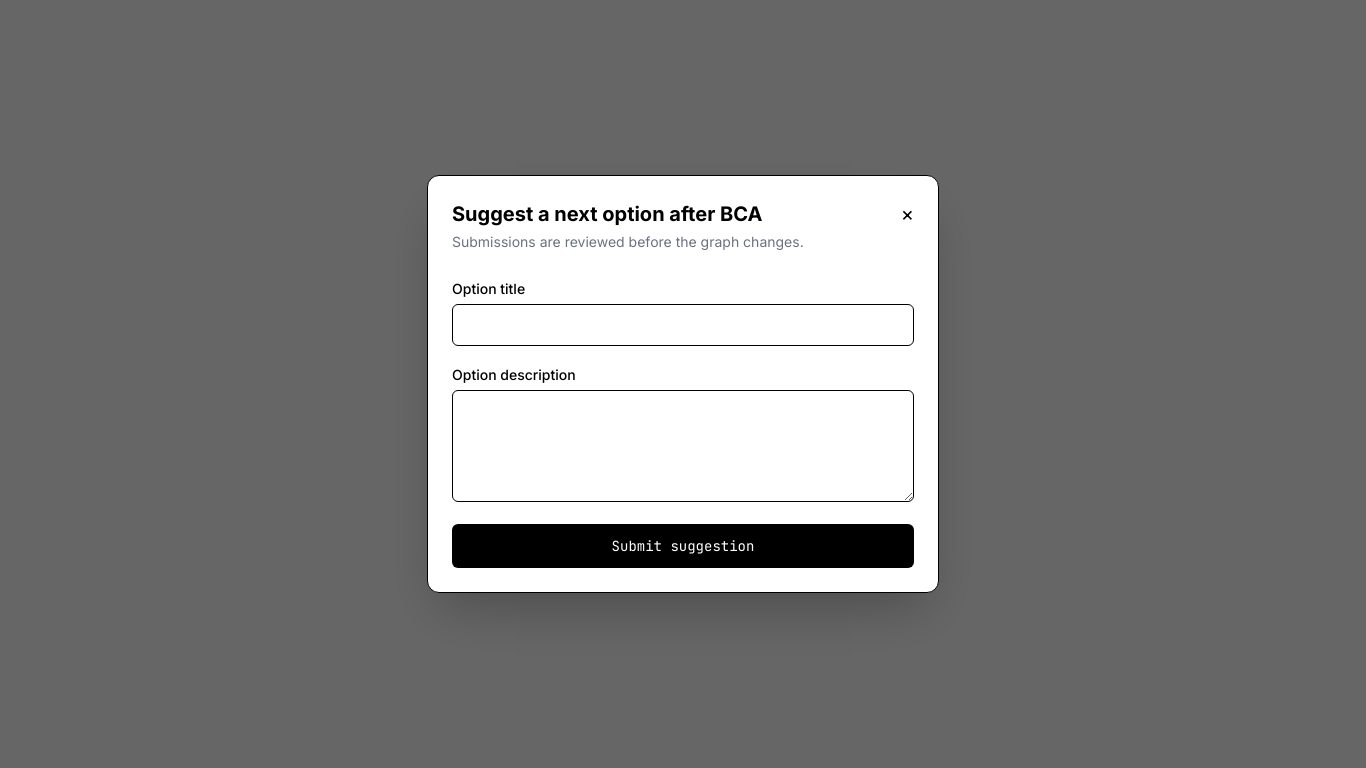
SuggestionDialog › submits the stable-ID suggestion payload and shows success
This screenshot has width=1366, height=768.
Type "Cloud Engineering Certification" into the field labelled "Option title".
click(683, 325); type("Cloud Engineering Certification")  # box [452,304,914,346]
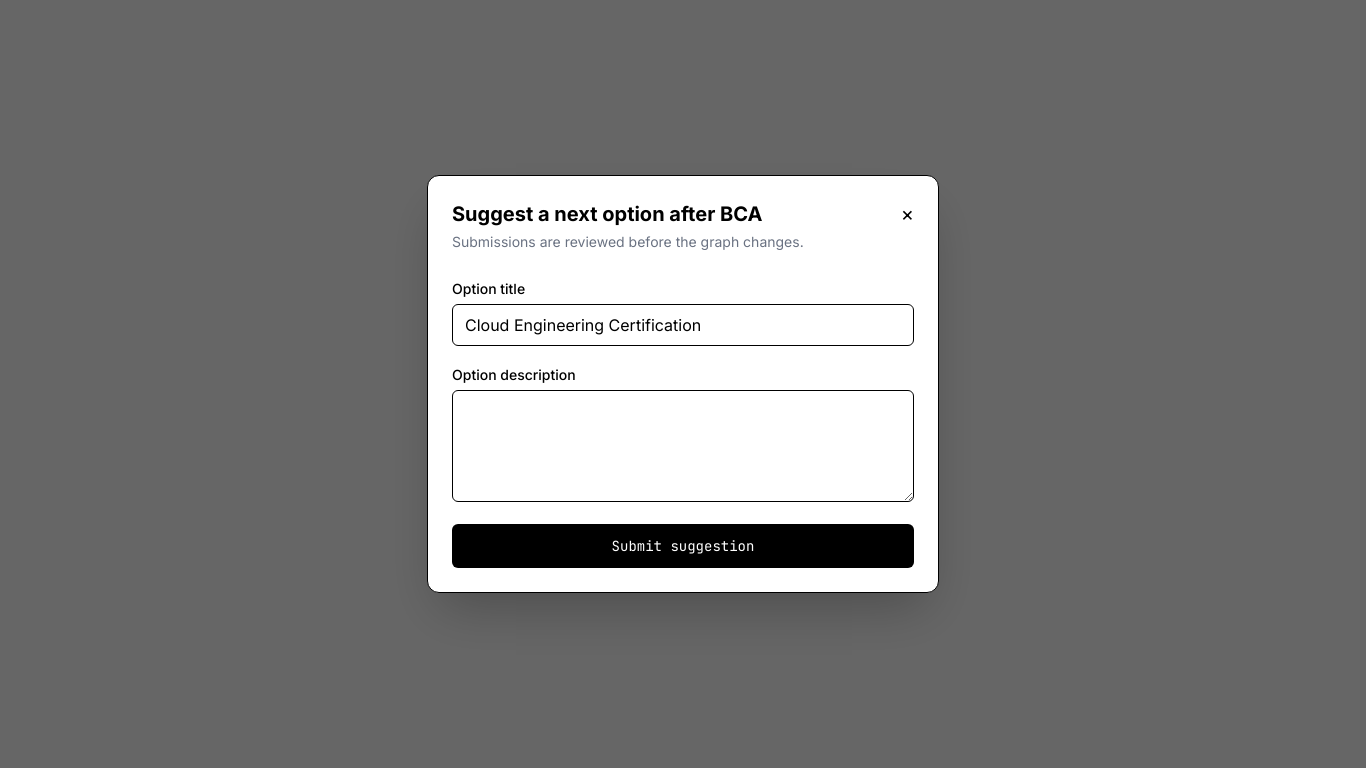
Type "A focused certification route for cloud infrastructure." into the text box labelled "Option description".
click(683, 446); type("A focused certification route for cloud infrastructure.")  # box [452,390,914,502]
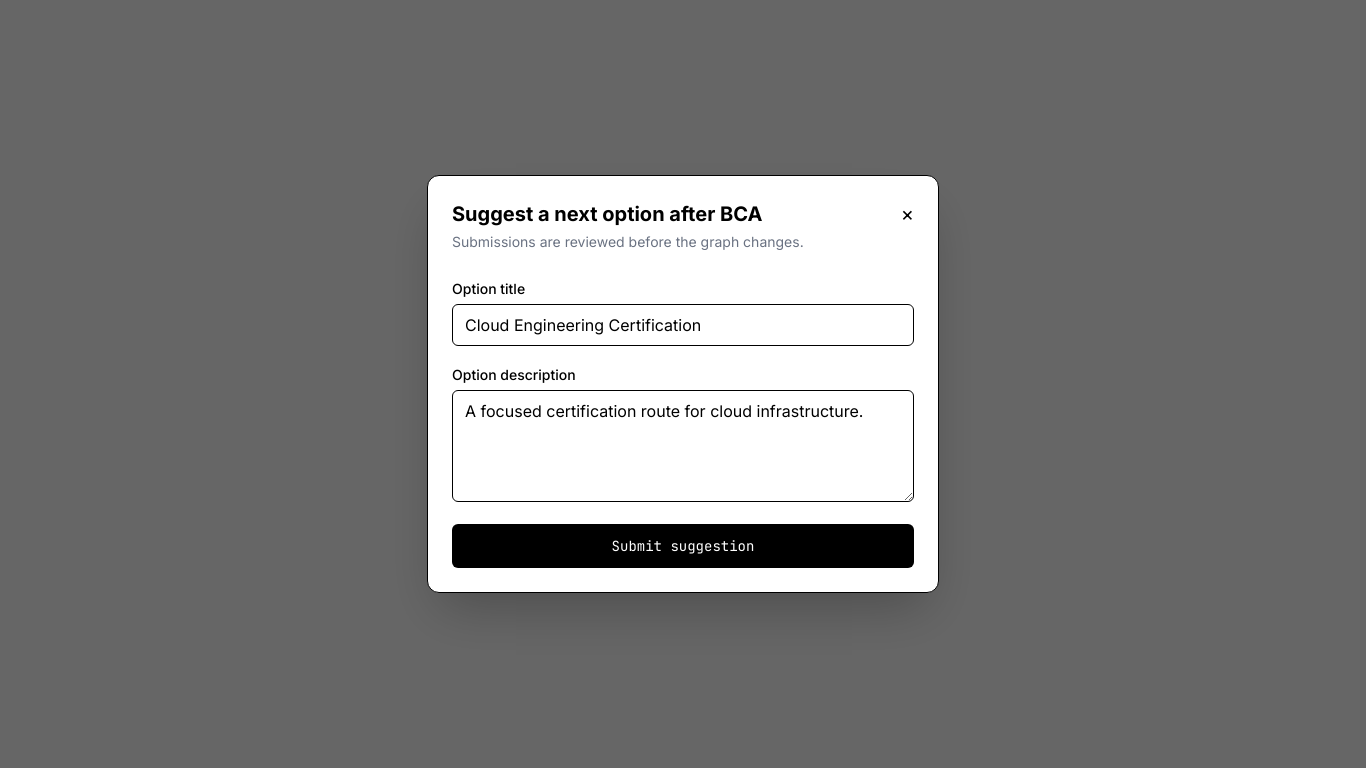
Click the button "Submit suggestion".
click(683, 546)  # box [452,524,914,568]
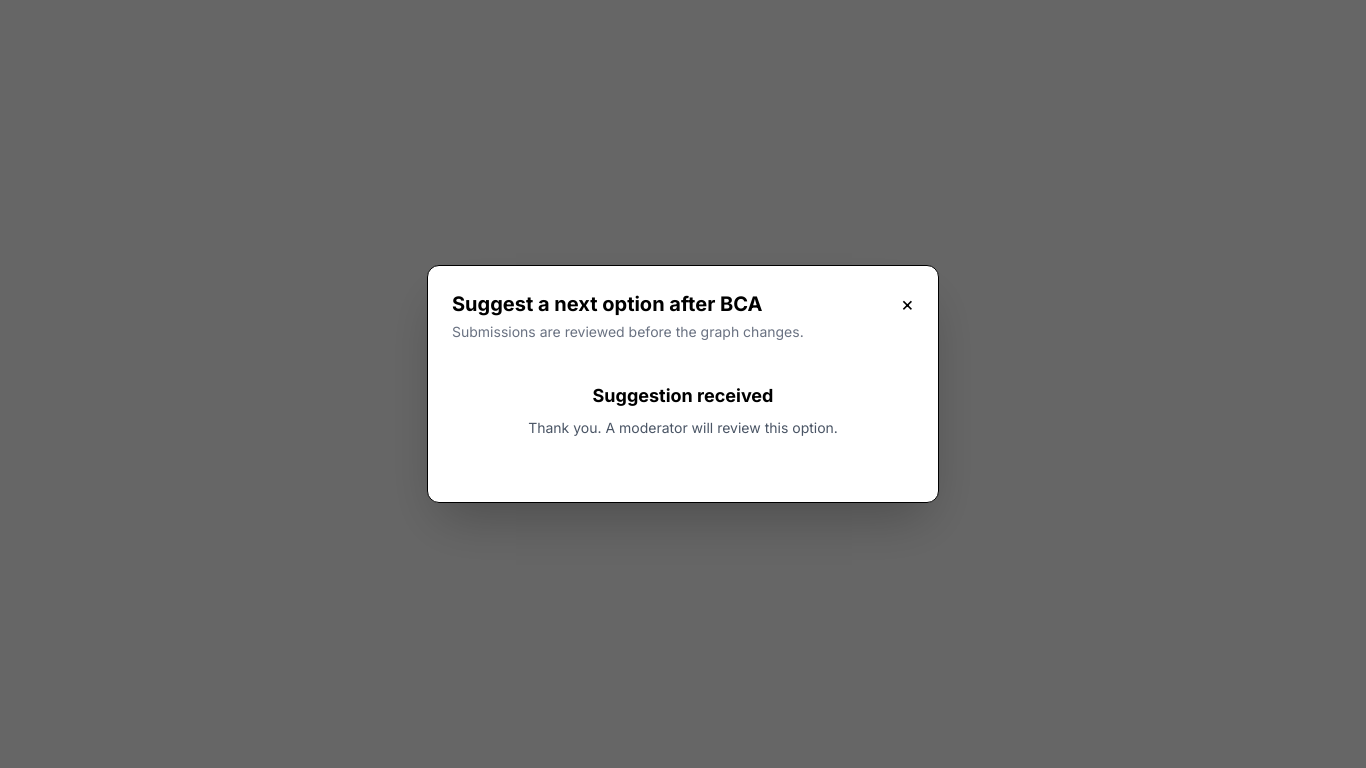
Expected: the heading "Suggestion received" is shown, [593,385,774,406]
